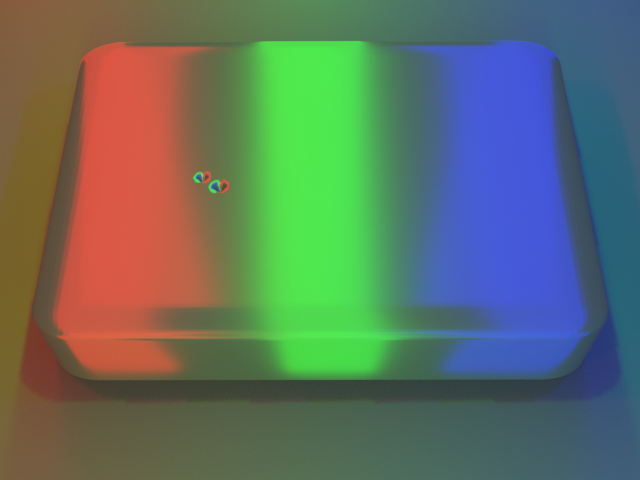dent: (188, 164, 229, 207), (171, 155, 209, 195)
